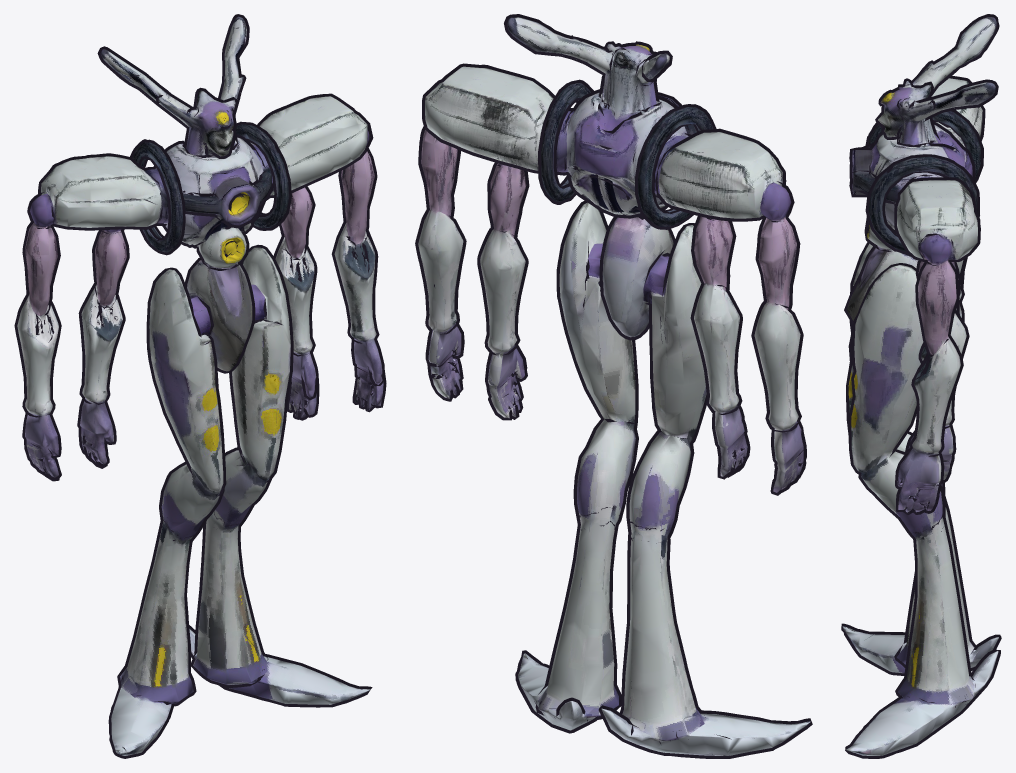
Rendered from alto.glb.
3 views of the same model, side by side, from view 1: azimuth 30°, elevation 25°; view 2: azimuth 150°, elevation 25°; view 3: azimuth 270°, elevation 25° (orthographic). The views are drawn at different scales.
Parts seen in each view (by area): view 1: body, leg_fr-mesh (×2), leg_fl-mesh (×2), head-mesh (×2), spin-mesh (×2); view 2: body, leg_fr-mesh (×2), leg_fl-mesh (×2), head-mesh (×2), spin-mesh (×2); view 3: body, leg_fl-mesh (×2), head-mesh (×2), spin-mesh (×2).
Boxes of the visible parts, <box> form: body: <box>27,79,373,758</box>; leg_fr-mesh (×2): <box>14,220,146,481</box>; leg_fl-mesh (×2): <box>273,152,386,420</box>; head-mesh (×2): <box>165,69,258,200</box>; spin-mesh (×2): <box>97,14,249,107</box>; body: <box>422,38,812,758</box>; leg_fr-mesh (×2): <box>682,209,806,495</box>; leg_fl-mesh (×2): <box>415,128,529,420</box>; head-mesh (×2): <box>566,40,681,157</box>; spin-mesh (×2): <box>504,14,672,82</box>; body: <box>841,68,1001,758</box>; leg_fl-mesh (×2): <box>895,221,969,514</box>; head-mesh (×2): <box>849,70,965,176</box>; spin-mesh (×2): <box>918,14,999,110</box>.
Size of the model in its own units: 0.9628 by 1.75 by 0.3836.
Materials: 2 (1 with a texture image).
